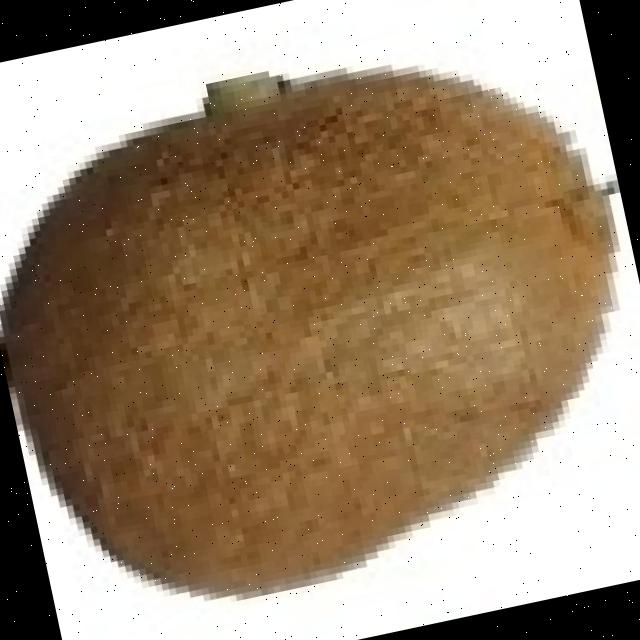kiwi: (16, 85, 620, 601)
